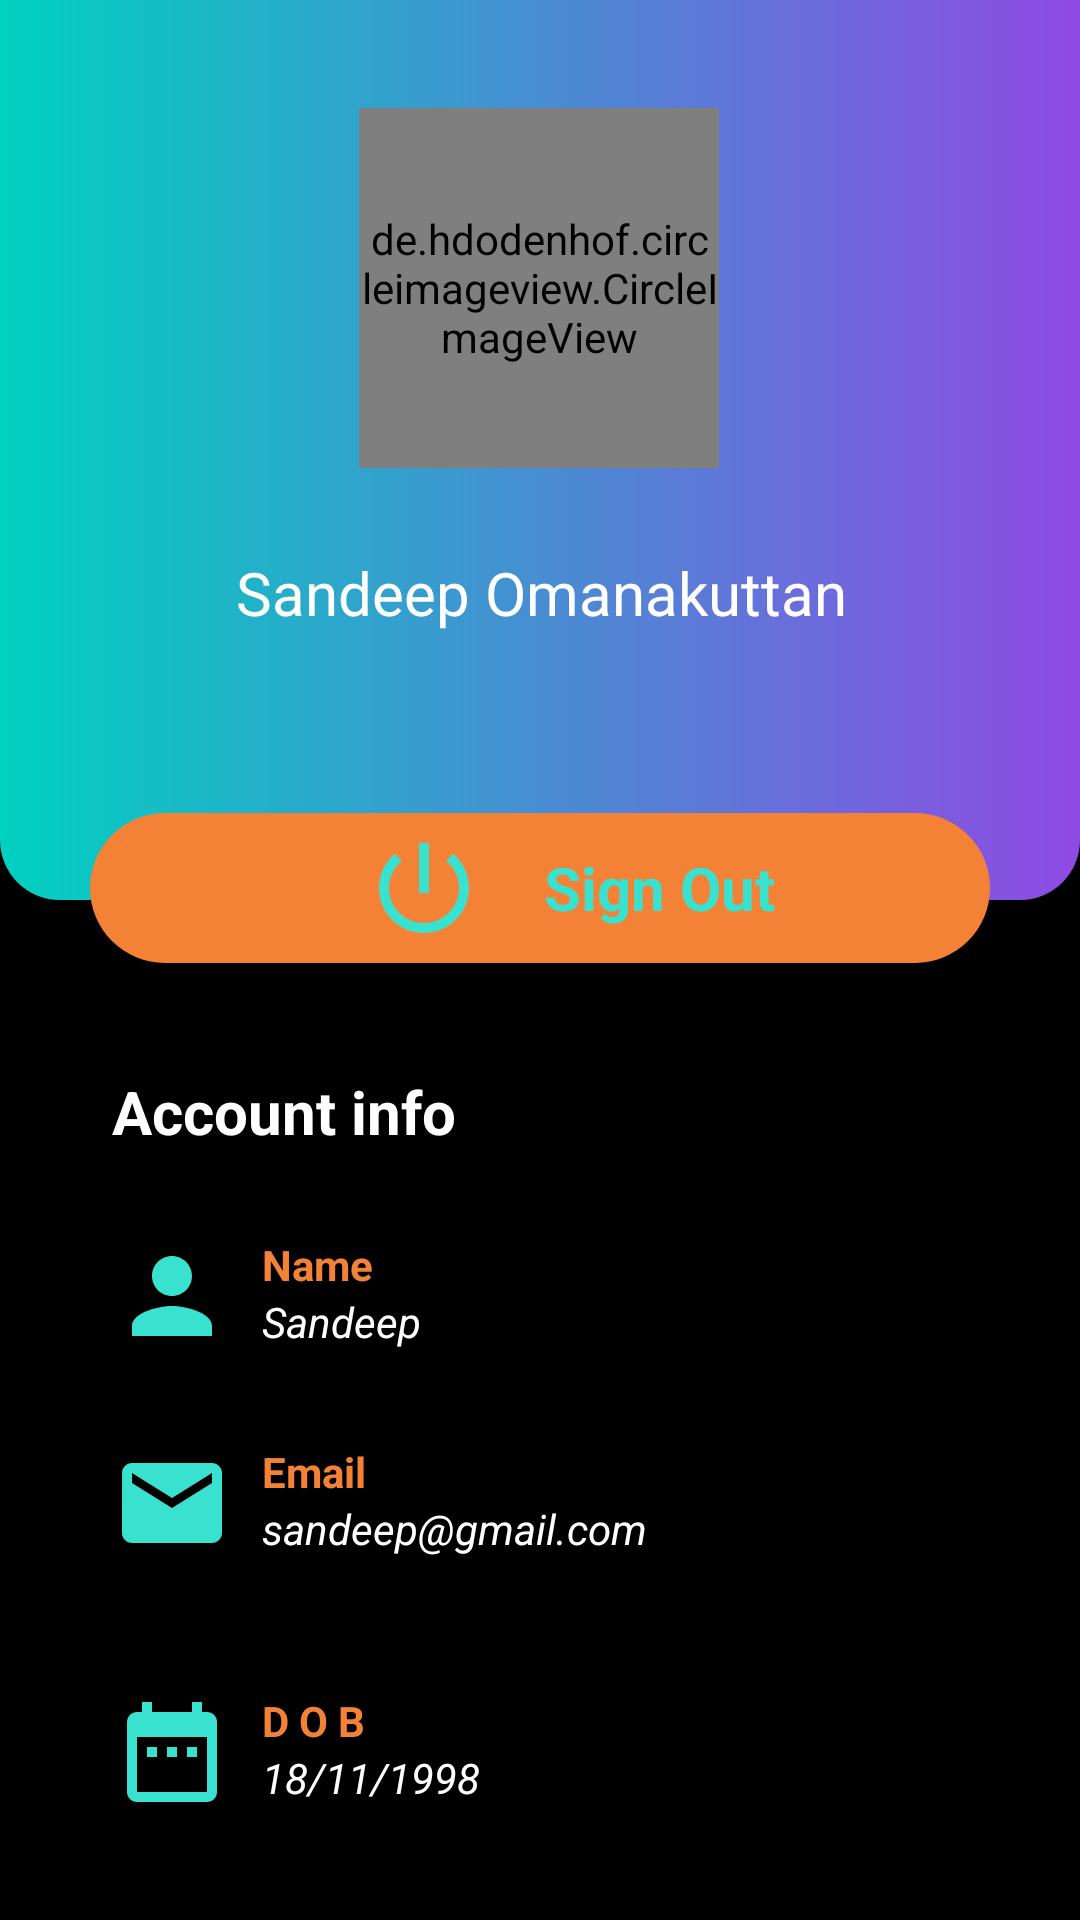

Screen size 1080px x 1920px. Icon name, then its box in pixels as bbox(x1, y1, x2, y2):
date: bbox(127, 1702, 217, 1802)
person: bbox(132, 1256, 212, 1336)
